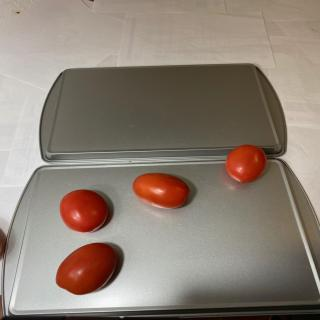Tomato: (55, 243, 117, 295), (132, 172, 190, 209), (60, 189, 108, 233), (225, 144, 267, 183)
